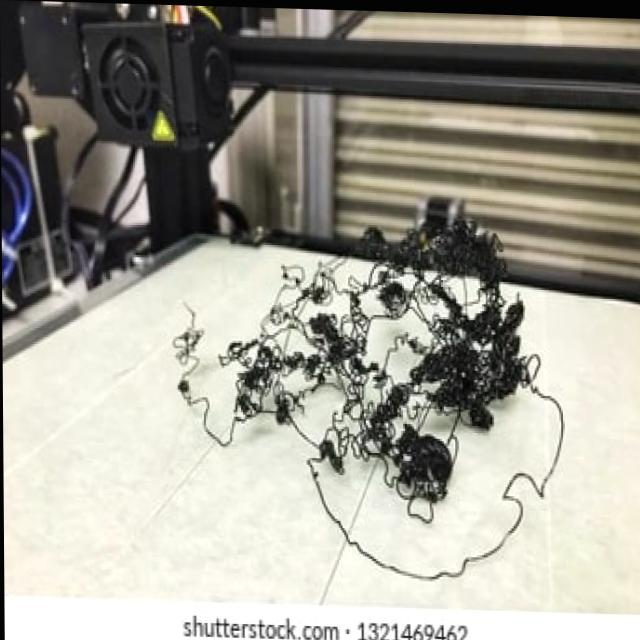spaghetti: (184, 216, 591, 560)
